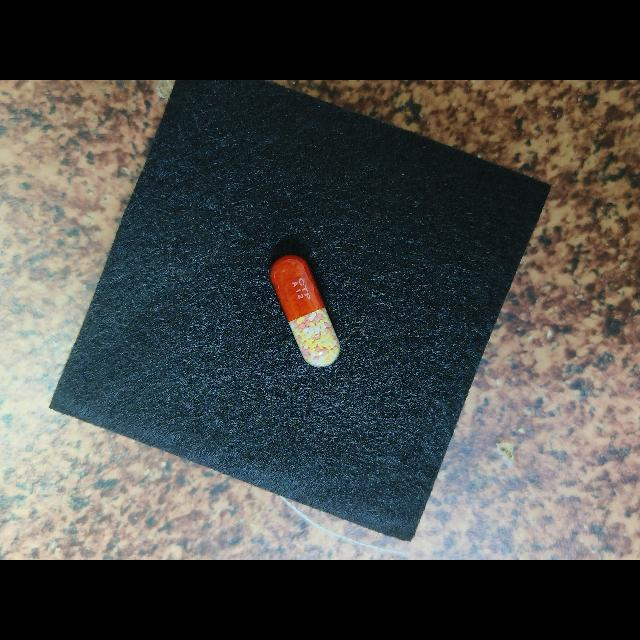Intact Capsule: (270, 255, 340, 367)
